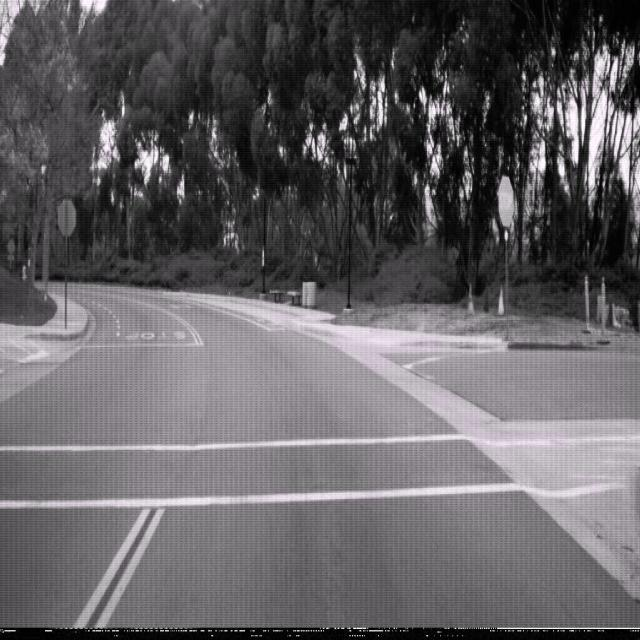stop: (498, 174, 514, 226)
